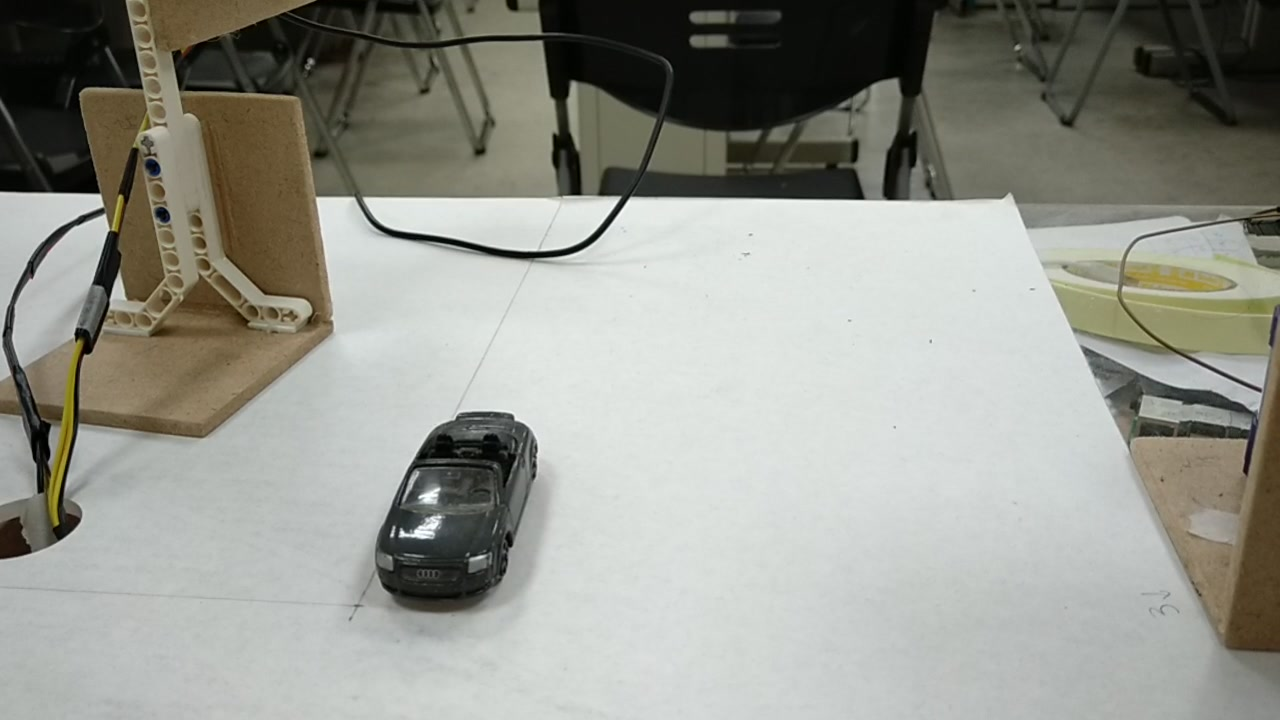car: (372, 416, 540, 609)
